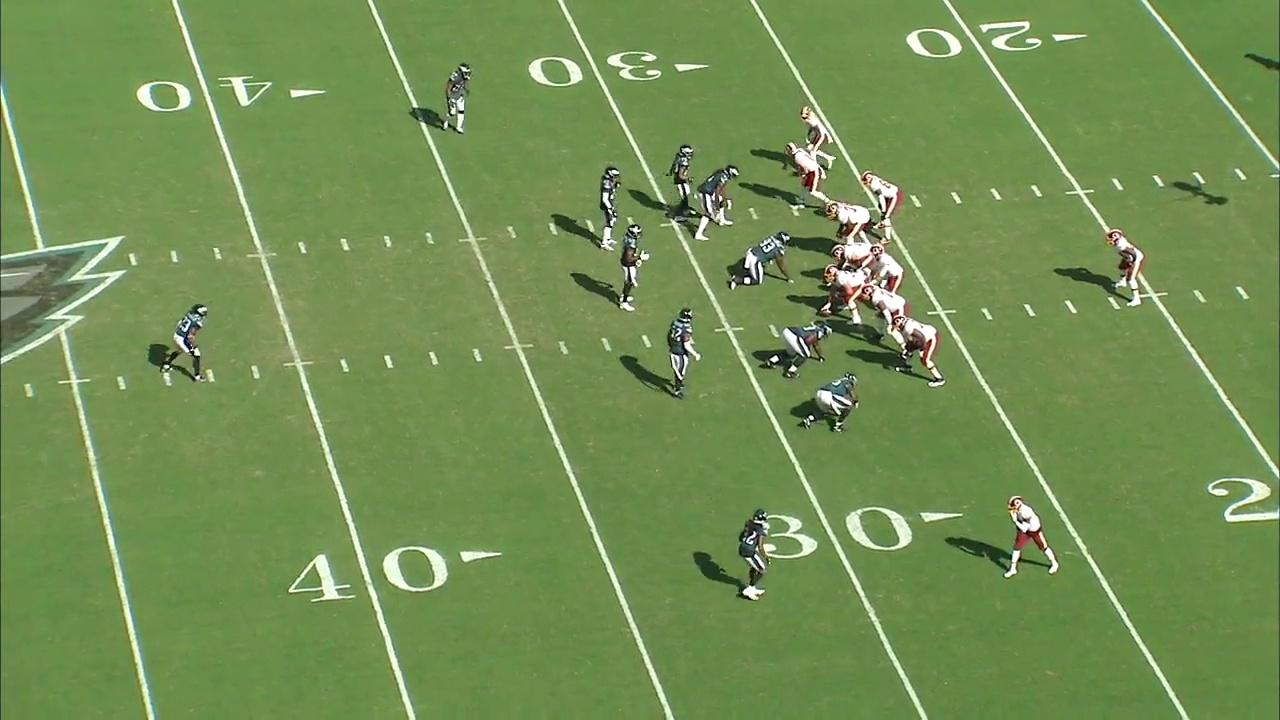player: (159, 297, 216, 383), (1002, 493, 1059, 579), (727, 229, 798, 290), (766, 320, 834, 381), (736, 505, 775, 604), (696, 161, 739, 243), (802, 372, 859, 432), (894, 320, 944, 387), (1106, 227, 1146, 308), (667, 305, 701, 400), (614, 226, 649, 316), (859, 168, 900, 244), (783, 144, 833, 202), (441, 56, 477, 136), (824, 262, 866, 325), (591, 167, 622, 252), (668, 139, 699, 219), (800, 102, 838, 167), (826, 201, 871, 245), (871, 241, 904, 294), (861, 286, 910, 320), (829, 240, 875, 271)
